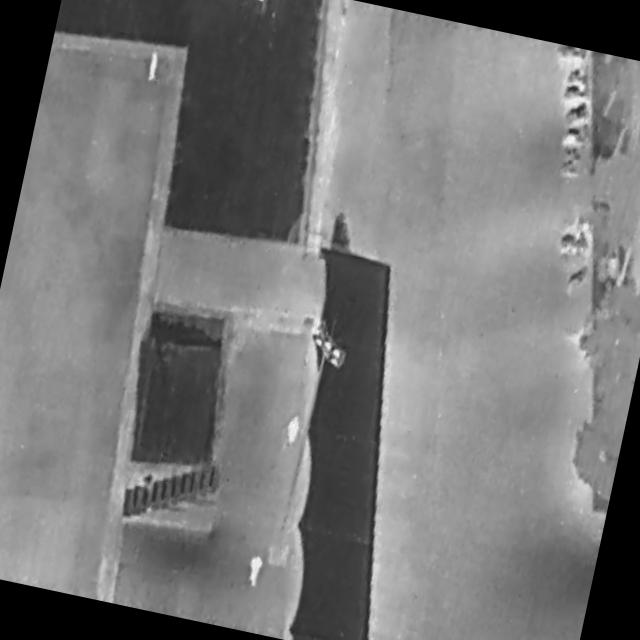person: (244, 550, 267, 588), (285, 412, 305, 448), (144, 50, 162, 82)
